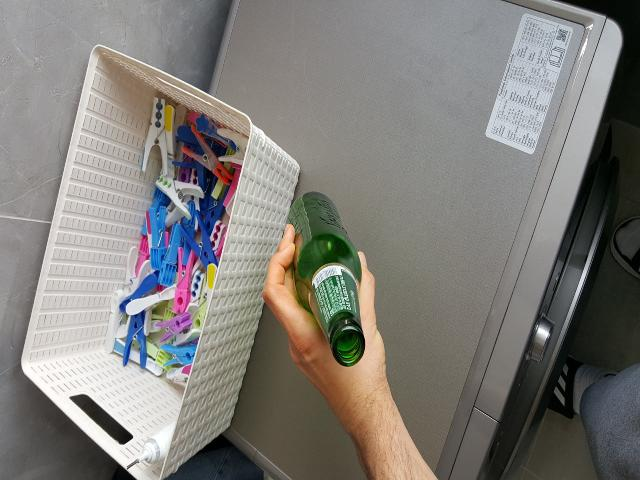beer: (284, 192, 365, 366)
